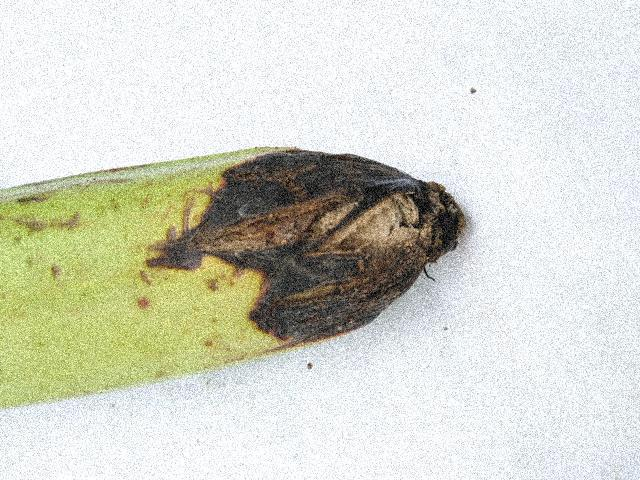rotten: (140, 116, 498, 392)
unripe: (0, 138, 181, 429)
